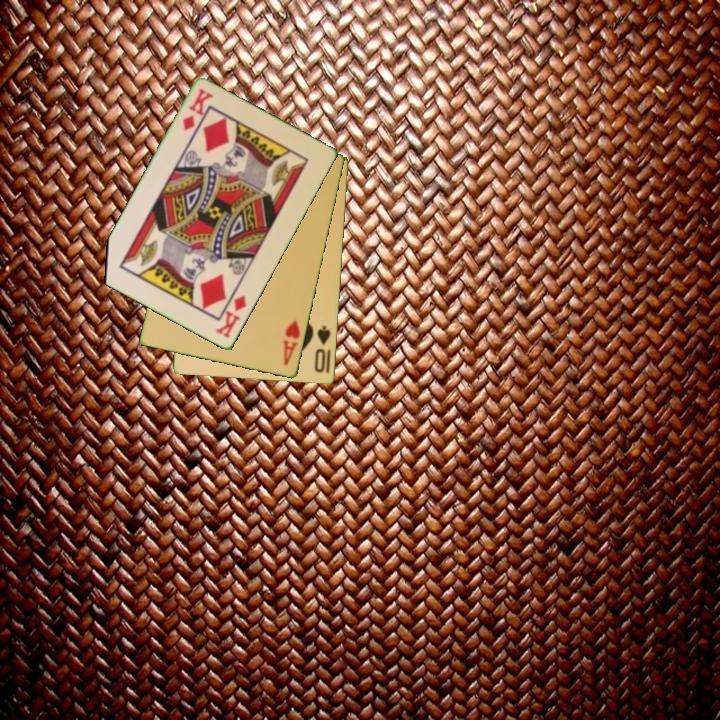10s: (311, 323, 334, 375)
Ah: (279, 317, 303, 369)
Kd: (212, 292, 250, 342), (179, 85, 215, 134)
